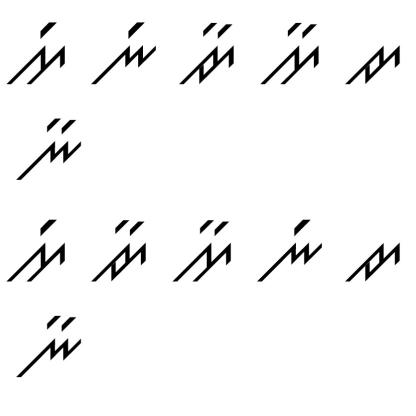ja: (335, 222, 407, 288), (335, 38, 405, 94)
jan: (171, 20, 244, 89), (88, 214, 151, 288)
nyan: (10, 313, 88, 383), (12, 116, 84, 184)
nyang: (86, 18, 160, 93), (249, 214, 325, 284)
san: (166, 214, 240, 291), (258, 20, 324, 91)
sang: (8, 15, 74, 91), (7, 216, 74, 284)
